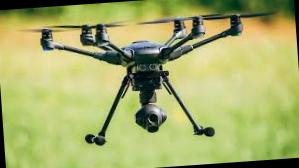drone: (10, 0, 281, 121)
